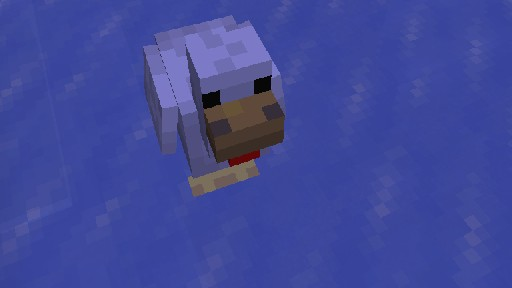chicken: (142, 14, 286, 197)
